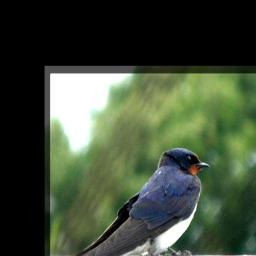Swallow: (52, 147, 211, 256)
